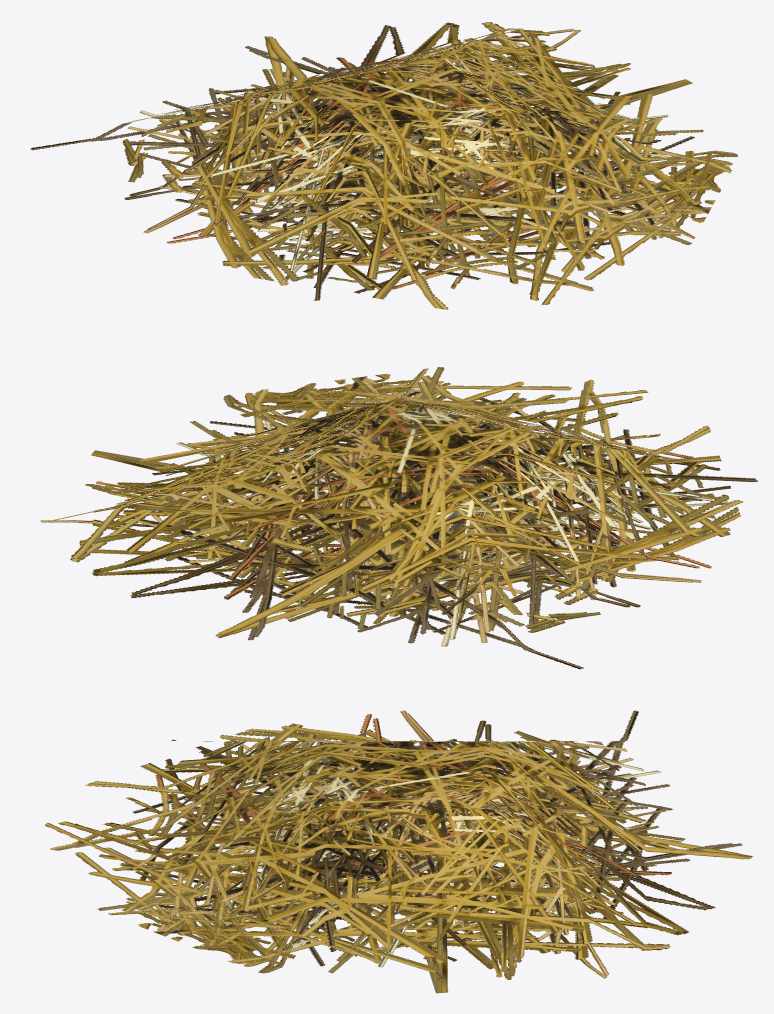
File: slama3.FBX
3 renders of one model, top to bottom at view 1: azimuth 30°, elevation 25°; view 2: azimuth 150°, elevation 25°; view 3: azimuth 270°, elevation 25°, orthographic. The views are drawn at different scales.
Parts seen in each view (by area): view 1: Slama003_LOD1, Slama003_LOD2; view 2: Slama003_LOD1, Slama003_LOD2; view 3: Slama003_LOD1, Slama003_LOD2.
Boxes of the visible parts, x1,y1,x2,y2 form: Slama003_LOD1: (30,23,736,309); Slama003_LOD2: (86,22,737,309); Slama003_LOD1: (44,367,757,669); Slama003_LOD2: (40,367,740,652); Slama003_LOD1: (58,710,750,993); Slama003_LOD2: (44,710,753,992).
Bounding box in the file's own units: 144 × 15.24 × 154.
